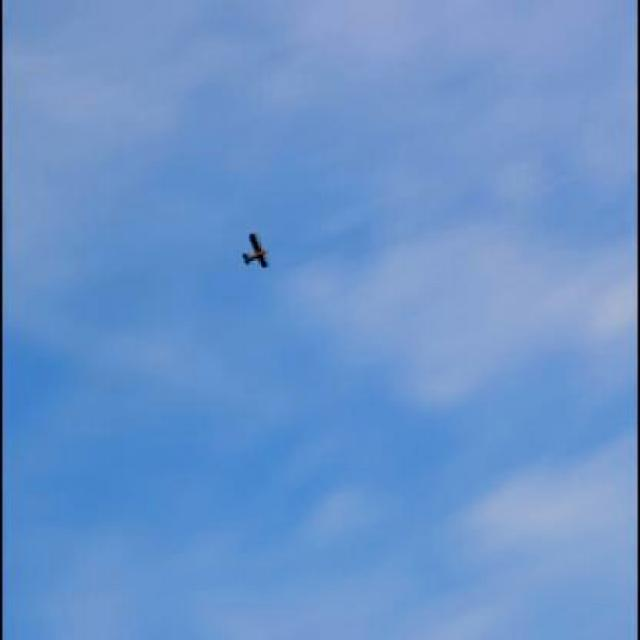iha: (240, 227, 272, 271)
